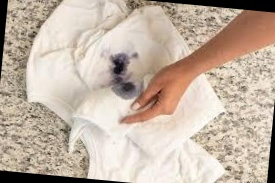ink: (111, 80, 136, 99), (109, 54, 129, 76)
